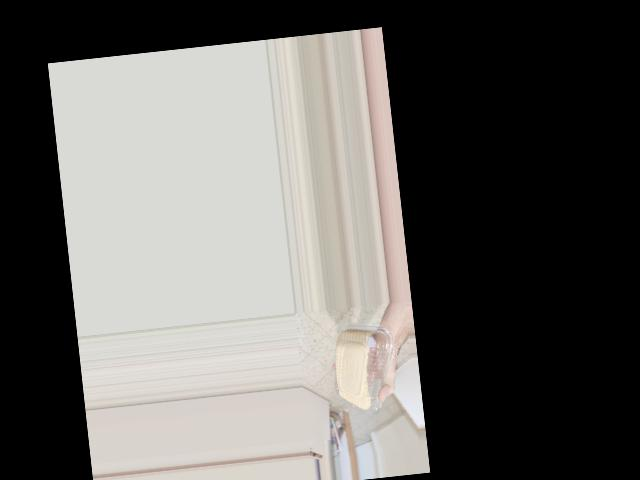cheese: (337, 315, 382, 394)
